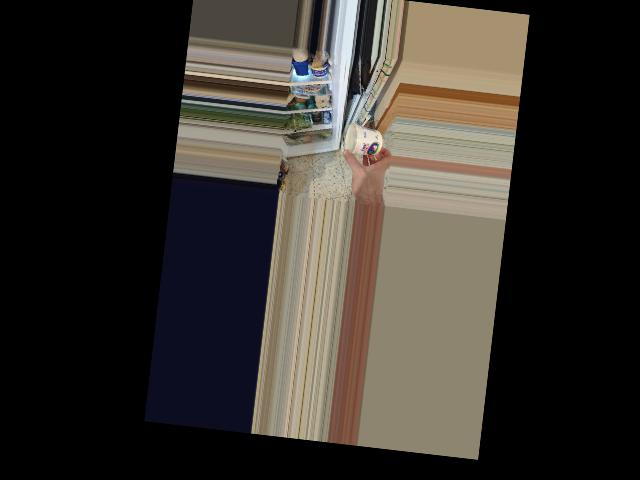cotage: (343, 123, 386, 158)
